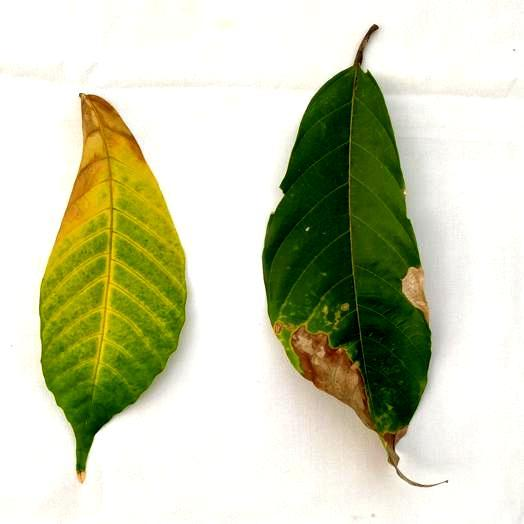Potassium: (262, 24, 437, 486), (40, 95, 186, 481)
